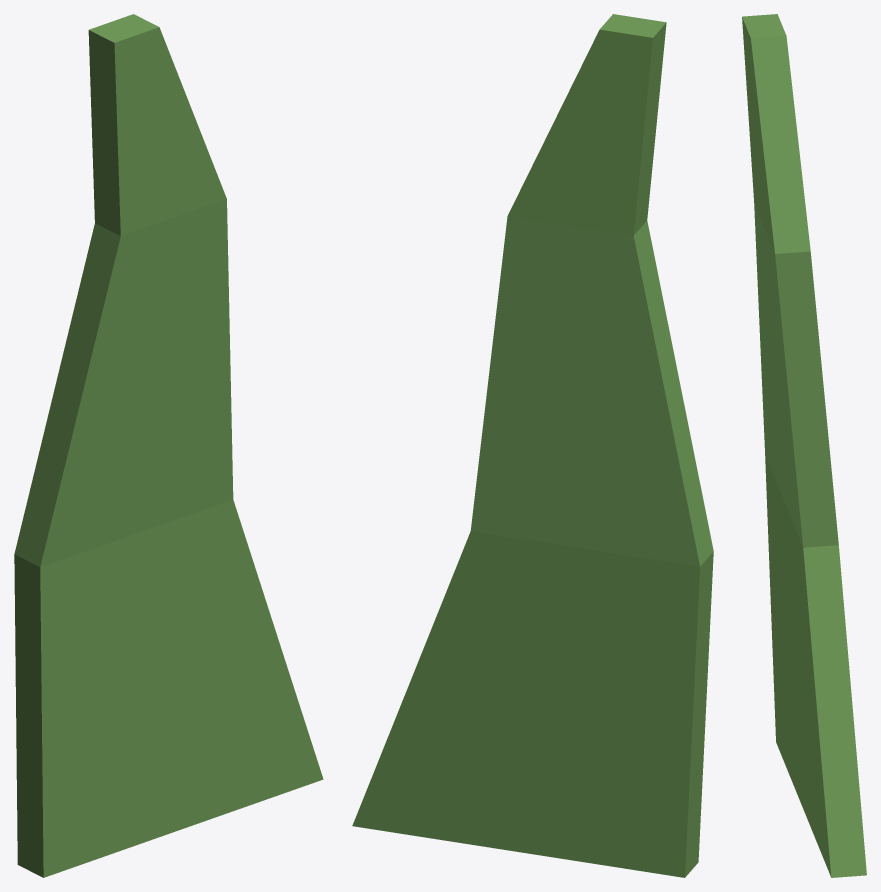
Rendered from Grass_4.fbx.
3 renders of one model, left to right at view 1: azimuth 30°, elevation 25°; view 2: azimuth 150°, elevation 25°; view 3: azimuth 270°, elevation 25°, orthographic. The views are drawn at different scales.
Parts seen in each view (by area): view 1: Grass4_mesh; view 2: Grass4_mesh; view 3: Grass4_mesh.
Boxes of the visible parts, x1,y1,x2,y2 form: Grass4_mesh: (14,14,323,877); Grass4_mesh: (352,14,713,877); Grass4_mesh: (742,14,866,877).
Size of the model in its own units: 8.48 by 20.77 by 3.14.
